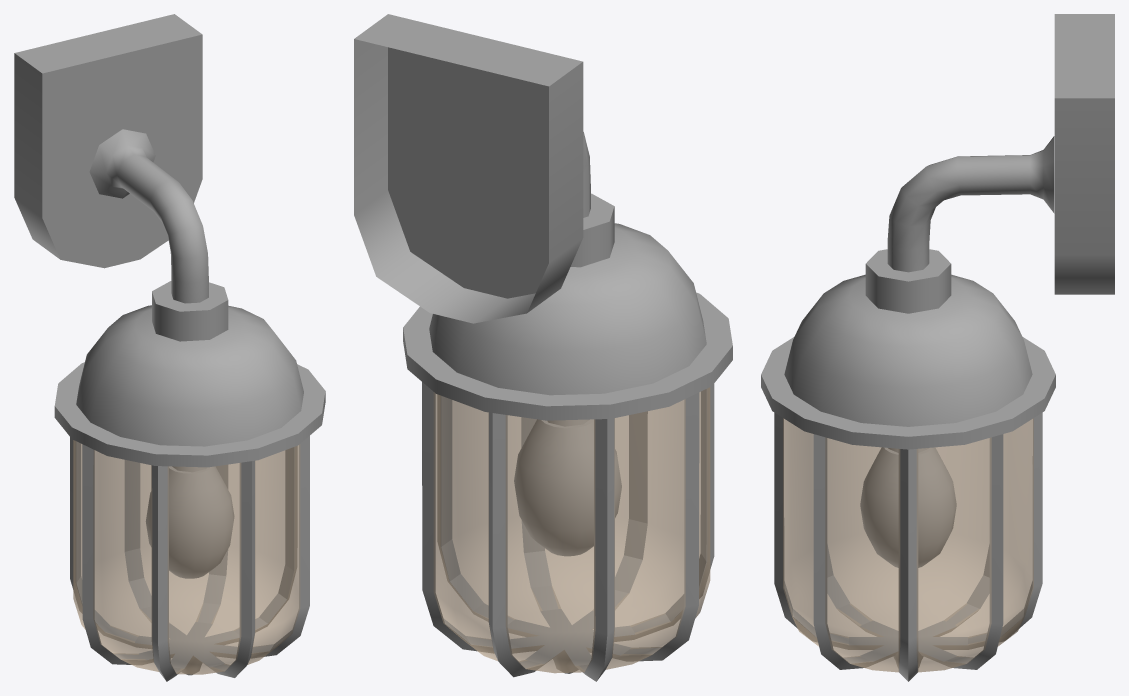
Rendered from lamp.fbx.
The picture shows the model from 3 angles, left to right: view 1: azimuth 30°, elevation 25°; view 2: azimuth 150°, elevation 25°; view 3: azimuth 270°, elevation 25°; orthographic projection. The views are drawn at different scales.
Parts seen in each view (by area): view 1: pCube84_polySurface94, polySurface93, polySurface91; view 2: pCube84_polySurface94, polySurface93, polySurface91; view 3: pCube84_polySurface94, polySurface93, polySurface91.
Part boxes in pixels (x1,y1,x2,y2): pCube84_polySurface94: [14, 14, 325, 681]; polySurface93: [73, 440, 300, 674]; polySurface91: [146, 466, 234, 578]; pCube84_polySurface94: [354, 14, 732, 681]; polySurface93: [433, 387, 710, 673]; polySurface91: [514, 419, 621, 556]; pCube84_polySurface94: [761, 14, 1114, 681]; polySurface93: [783, 418, 1033, 672]; polySurface91: [860, 447, 956, 567].
Size of the model in its own units: 19.85 by 45.69 by 23.82.
